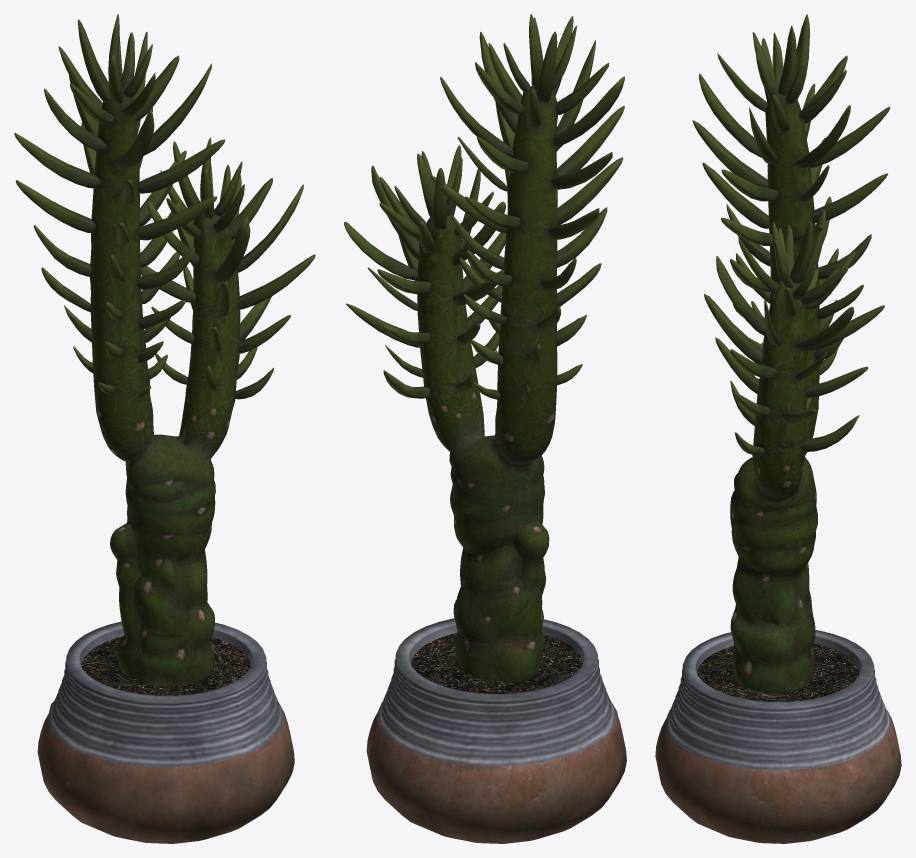
File: plant_27.glb
3 views of the same model, side by side, from view 1: azimuth 30°, elevation 25°; view 2: azimuth 150°, elevation 25°; view 3: azimuth 270°, elevation 25° (orthographic). The views are drawn at different scales.
Visible parts, largest first — view 1: Plants_VOL02_14; view 2: Plants_VOL02_14; view 3: Plants_VOL02_14.
Boxes of the visible parts, box(x1,y1,x2,y2) form: Plants_VOL02_14: box(14, 14, 315, 843); Plants_VOL02_14: box(344, 14, 626, 843); Plants_VOL02_14: box(655, 14, 901, 843).
Bounding box in the file's own units: 0.4962 × 1.46 × 0.4188.
Materials: 1 (1 with a texture image).
